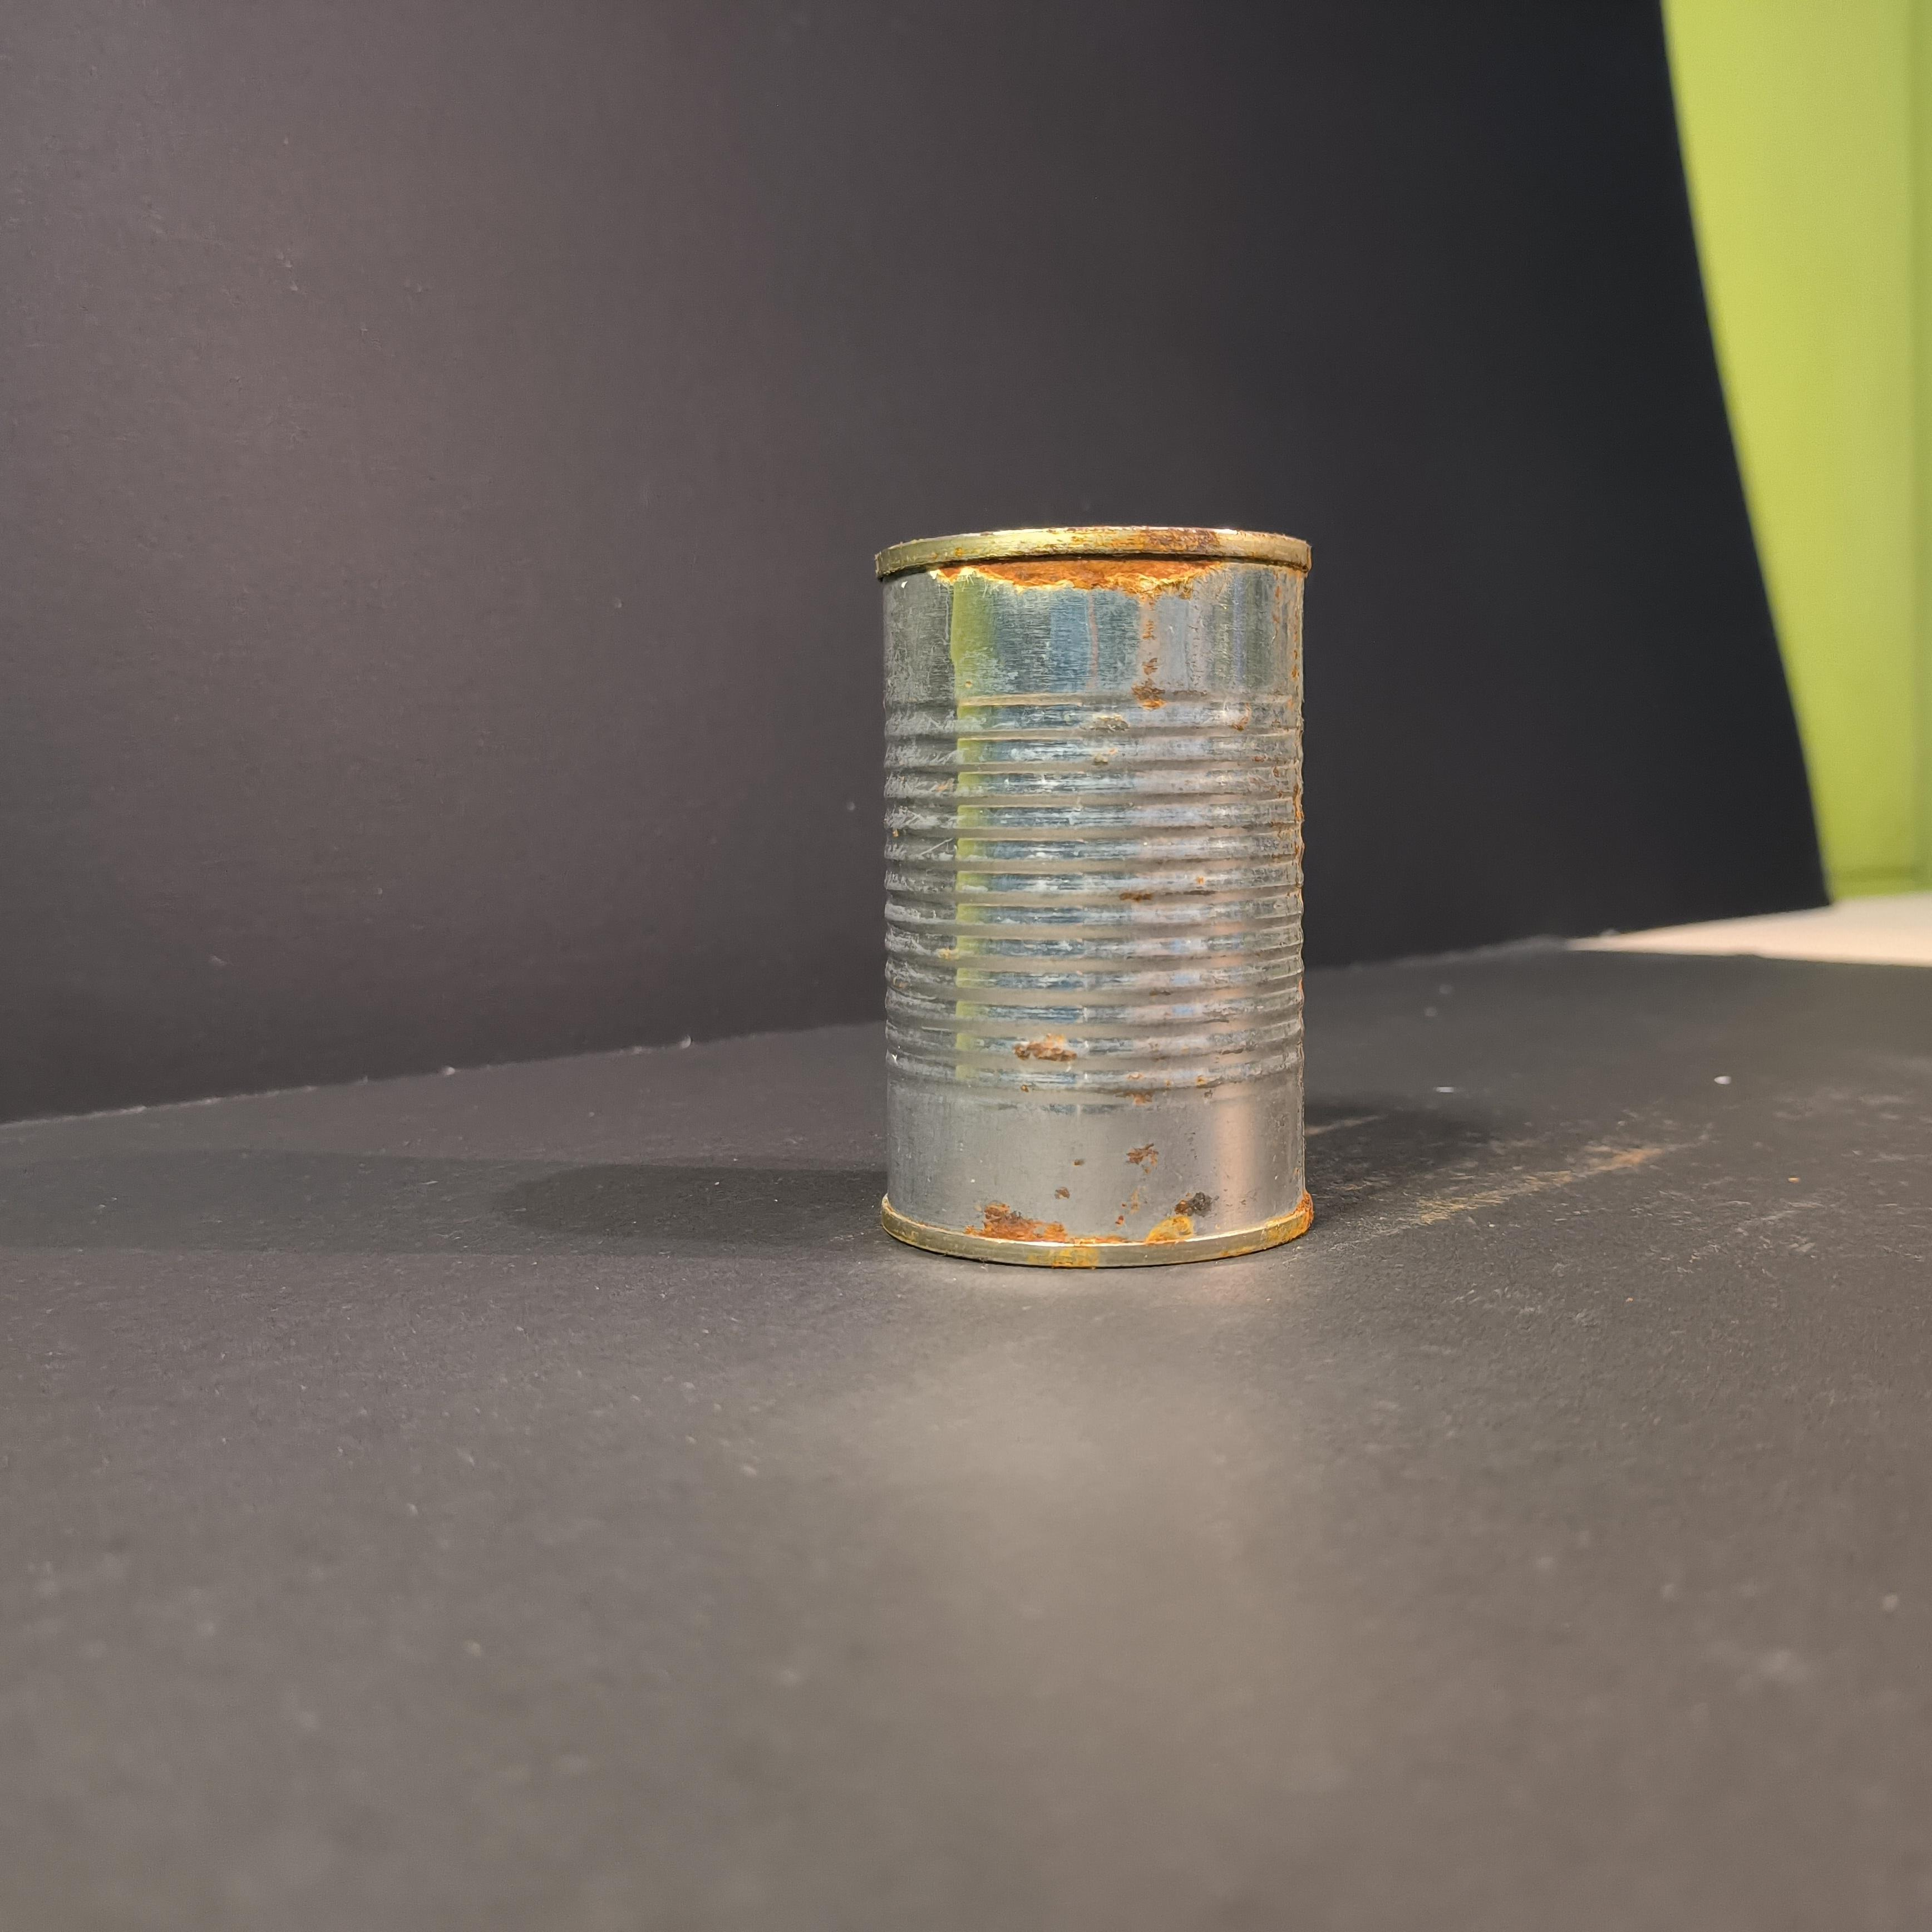Rusted: (856, 497, 1341, 1277)
